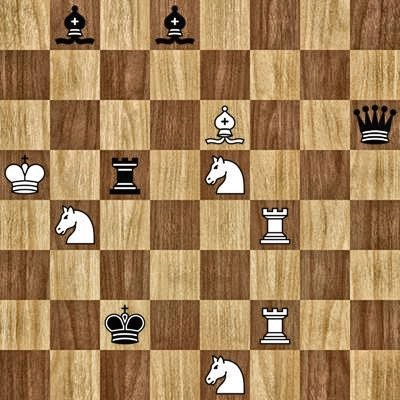black-bishop: (50, 0, 100, 50), (150, 0, 200, 50)
black-king: (100, 300, 150, 350)
black-queen: (350, 100, 400, 150)
black-rook: (100, 150, 150, 200)
white-bishop: (200, 100, 250, 150)
white-king: (0, 150, 50, 200)
white-knight: (200, 150, 250, 200), (50, 200, 100, 250), (200, 350, 250, 400)
white-rook: (250, 200, 300, 250), (250, 300, 300, 350)
